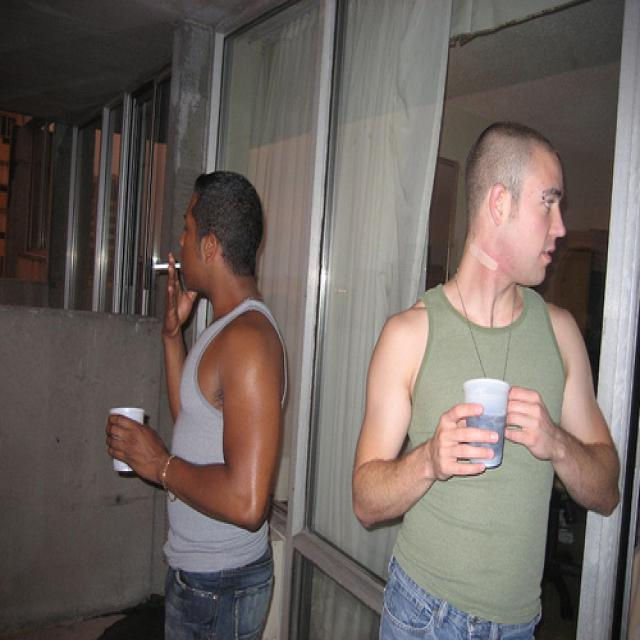person: (352, 119, 622, 639), (106, 170, 289, 639)
